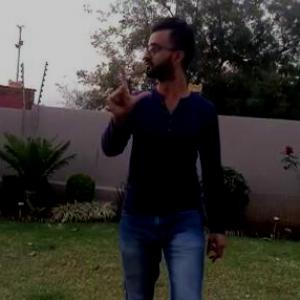land_hand: (103, 60, 158, 116)
